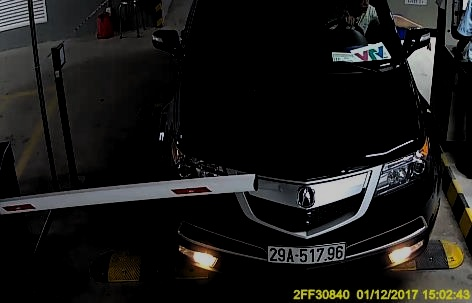plate: (261, 239, 347, 263)
